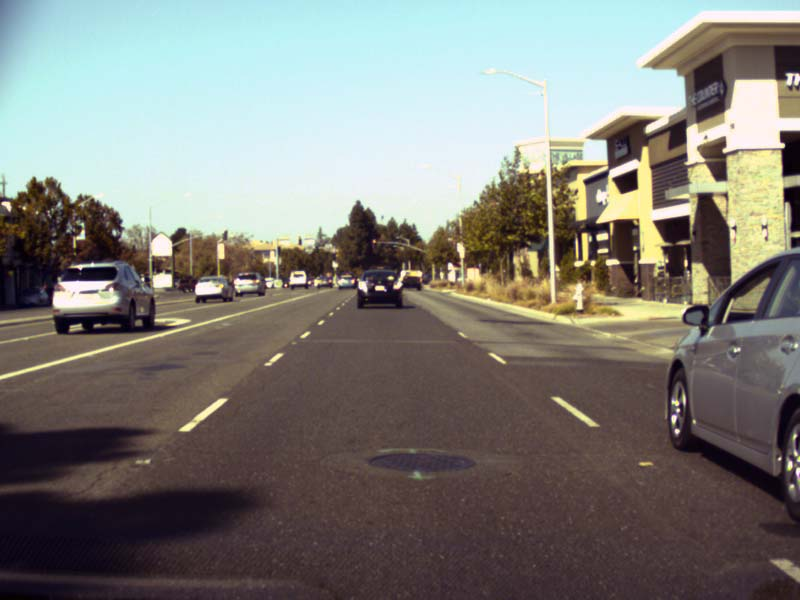Red: (370, 238, 375, 246)
